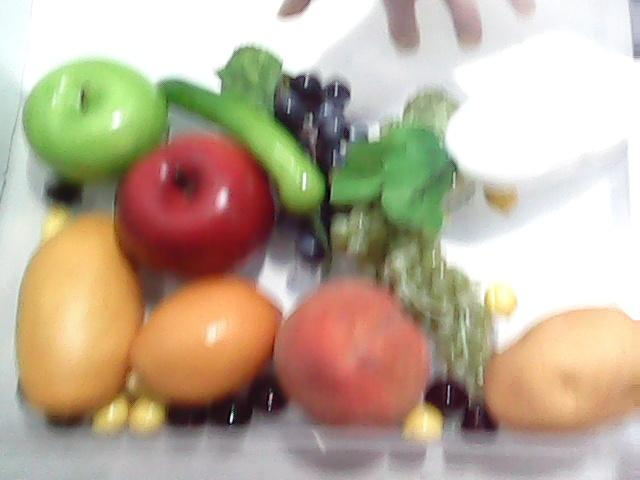apple: (11, 42, 175, 193), (116, 132, 272, 272)
grape: (345, 166, 519, 382), (285, 73, 351, 263)
lemon: (118, 270, 282, 418)
mango: (12, 203, 140, 425)
peach: (272, 271, 436, 432)
pepper: (154, 59, 330, 210)
potato: (480, 302, 640, 440)
radish: (326, 31, 640, 238)
